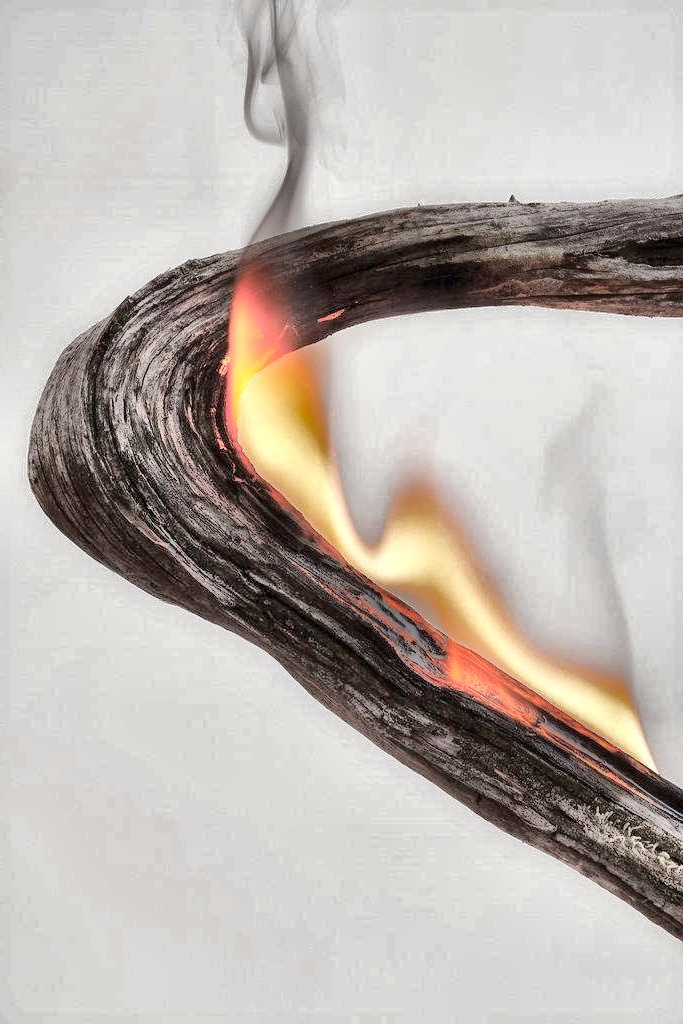fire: (216, 183, 636, 639)
